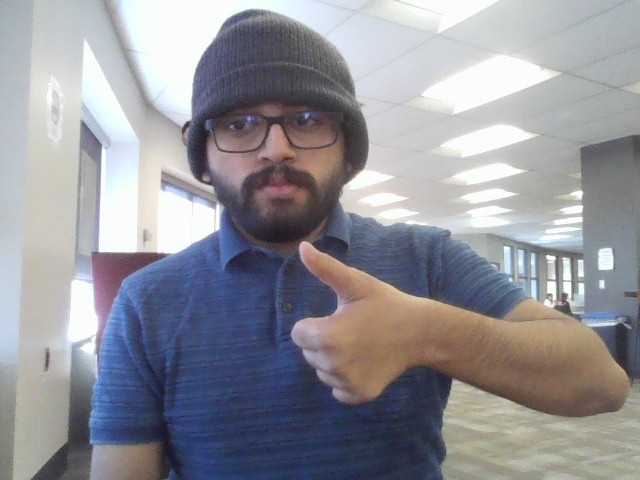start: (286, 237, 428, 423)
